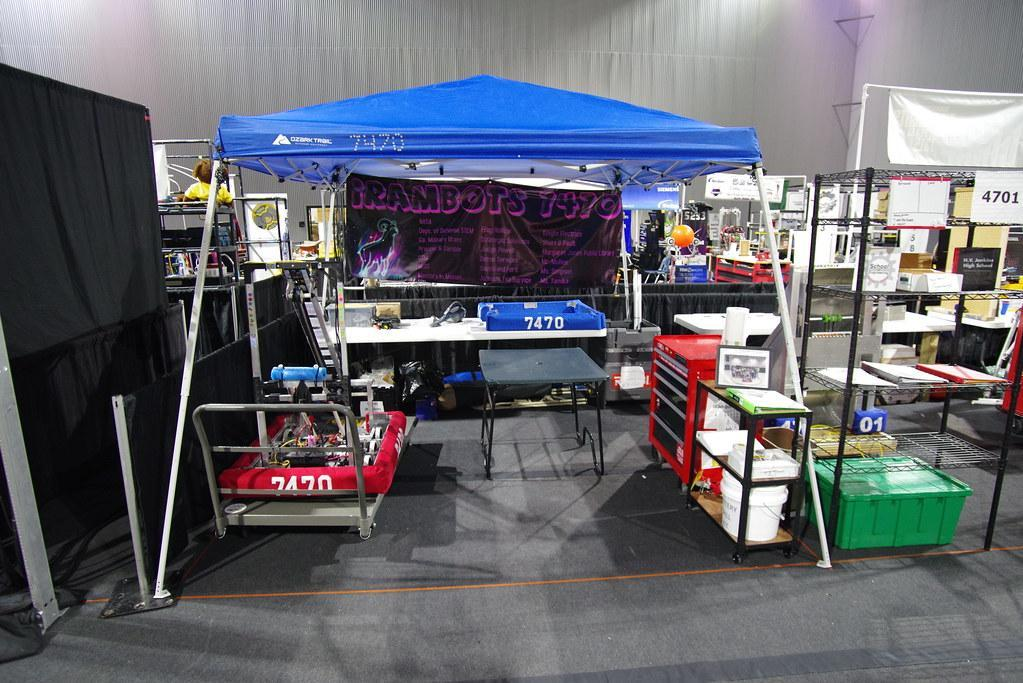robot: (204, 244, 417, 506), (750, 210, 907, 450)
